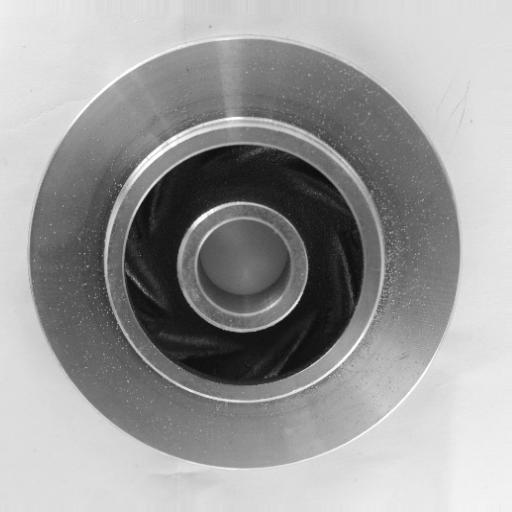polished_casting: (27, 35, 459, 472)
